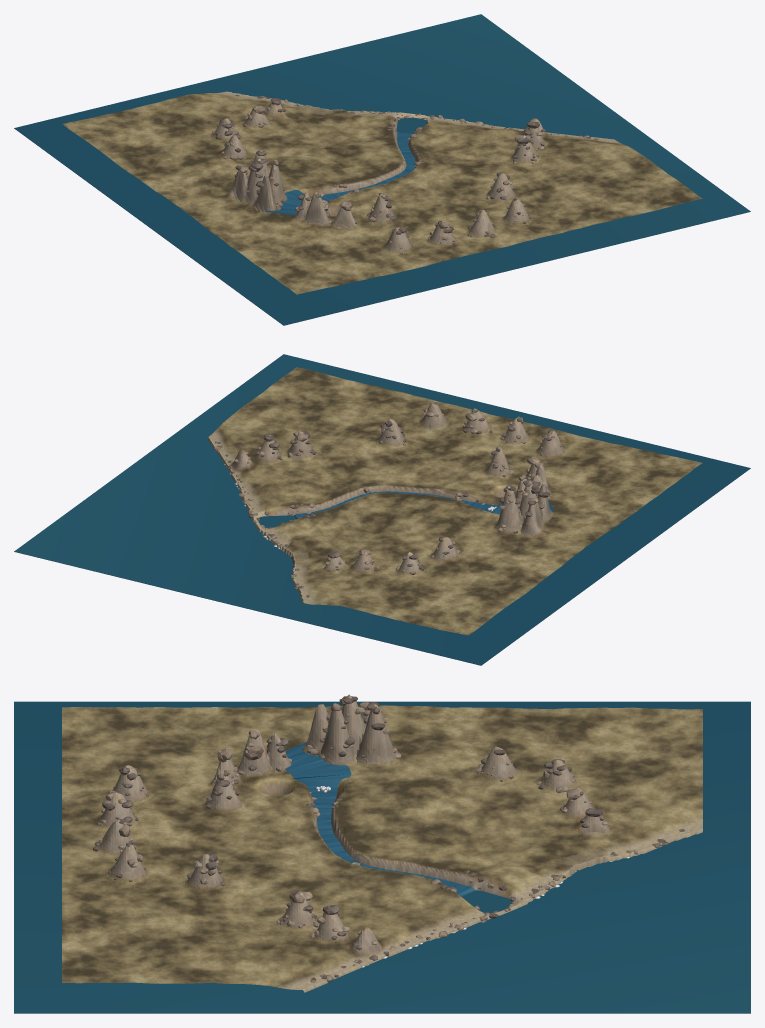
File: Terrain_P2.fbx
3 renders of one model, top to bottom at view 1: azimuth 30°, elevation 25°; view 2: azimuth 150°, elevation 25°; view 3: azimuth 270°, elevation 25°, orthographic. The views are drawn at different scales.
Visible parts, largest first — view 1: Ground, Sea, River; view 2: Ground, Sea, River; view 3: Ground, Sea, River.
Part boxes in pixels (x1,y1,x2,y2): Ground: [62, 91, 702, 294]; Sea: [14, 14, 750, 325]; River: [265, 132, 415, 215]; Ground: [208, 367, 702, 635]; Sea: [14, 354, 750, 665]; River: [294, 491, 554, 518]; Ground: [62, 694, 702, 992]; Sea: [14, 701, 750, 1013]; River: [285, 742, 474, 896].
Size of the model in its own units: 73600 by 9981 by 73600.
